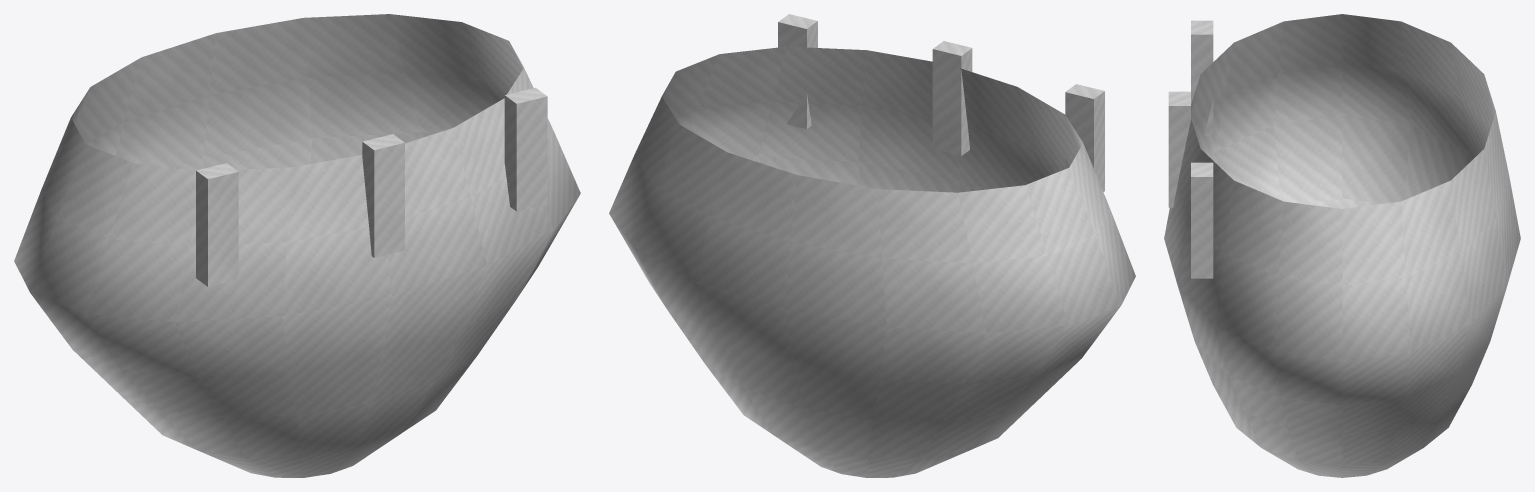
File: pants_cargo_hips_f.glb
3 views of the same model, side by side, from view 1: azimuth 30°, elevation 25°; view 2: azimuth 150°, elevation 25°; view 3: azimuth 270°, elevation 25° (orthographic). The views are drawn at different scales.
Visible parts, largest first — view 1: pants_cargo_hips_f; view 2: pants_cargo_hips_f; view 3: pants_cargo_hips_f.
Boxes of the visible parts, x1,y1,x2,y2 form: pants_cargo_hips_f: (14, 14, 580, 477); pants_cargo_hips_f: (609, 14, 1135, 477); pants_cargo_hips_f: (1164, 14, 1520, 477).
Size of the model in its own units: 0.416 by 0.275 by 0.2544.
Materials: 1 (1 with a texture image).
